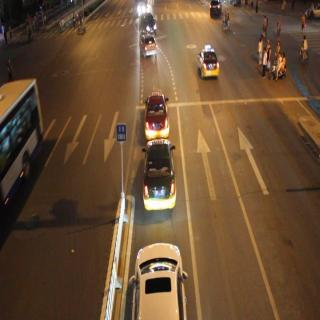Car: (139, 142, 181, 218), (141, 85, 173, 140), (198, 42, 221, 90), (137, 7, 159, 36), (136, 34, 160, 60)
